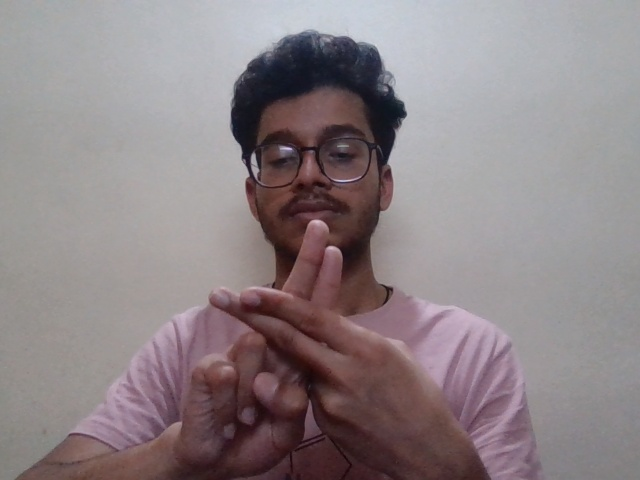disabled: (165, 207, 455, 463)
